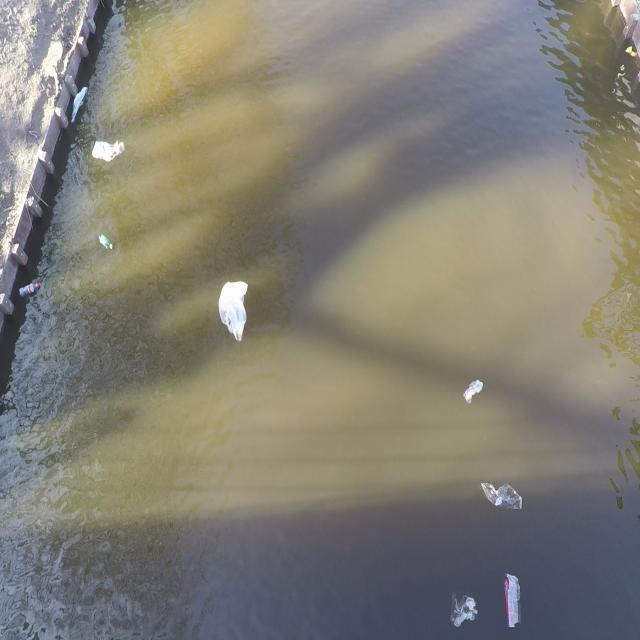Bouteille plastique: (97, 234, 115, 255)
Sac plastique: (215, 280, 252, 344)
